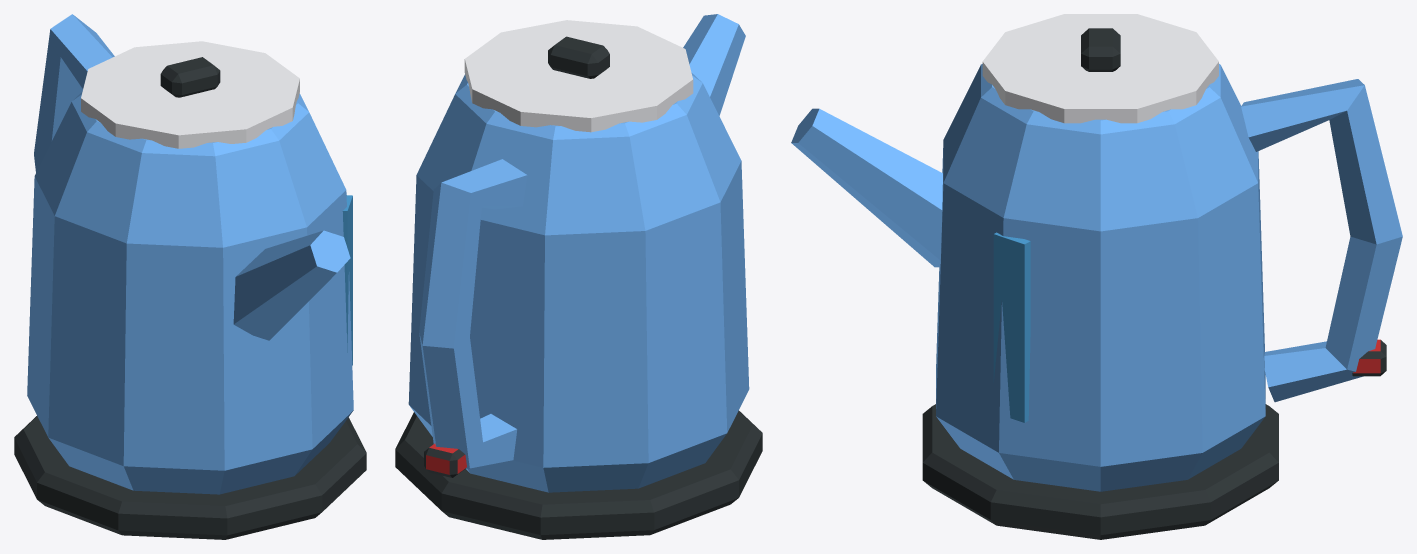
File: wasserkocher.glb
The picture shows the model from 3 angles, left to right: view 1: azimuth 30°, elevation 25°; view 2: azimuth 150°, elevation 25°; view 3: azimuth 270°, elevation 25°; orthographic projection. The views are drawn at different scales.
Parts seen in each view (by area): view 1: wasserkocher-m; view 2: wasserkocher-m; view 3: wasserkocher-m.
Boxes of the visible parts, x1=… form: wasserkocher-m: x1=14, y1=14, x2=366, y2=539; wasserkocher-m: x1=395, y1=14, x2=762, y2=539; wasserkocher-m: x1=791, y1=14, x2=1402, y2=539.
Size of the model in its own units: 0.19 by 0.2395 by 0.3105.
